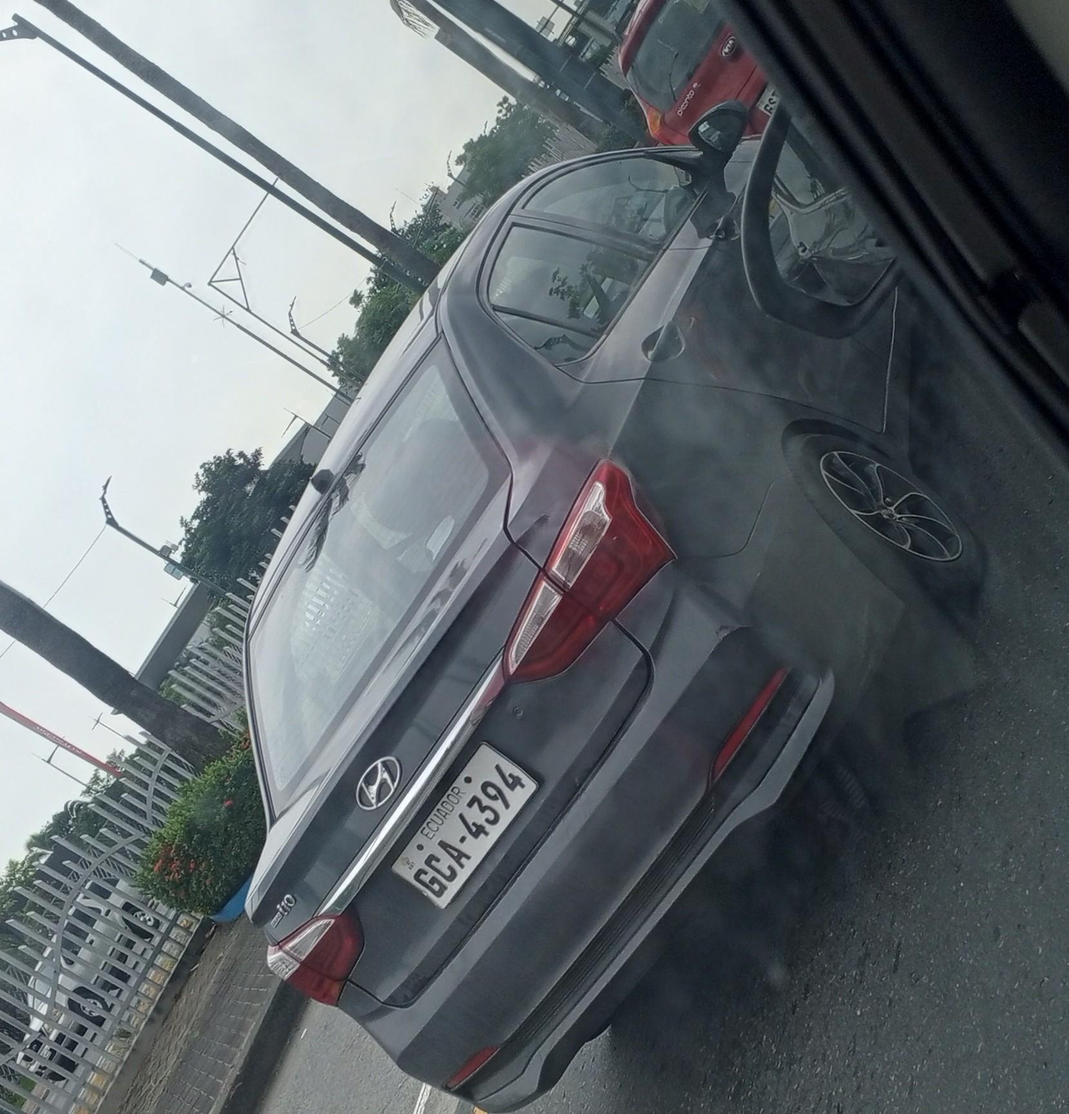license_plate: (391, 741, 538, 910)
